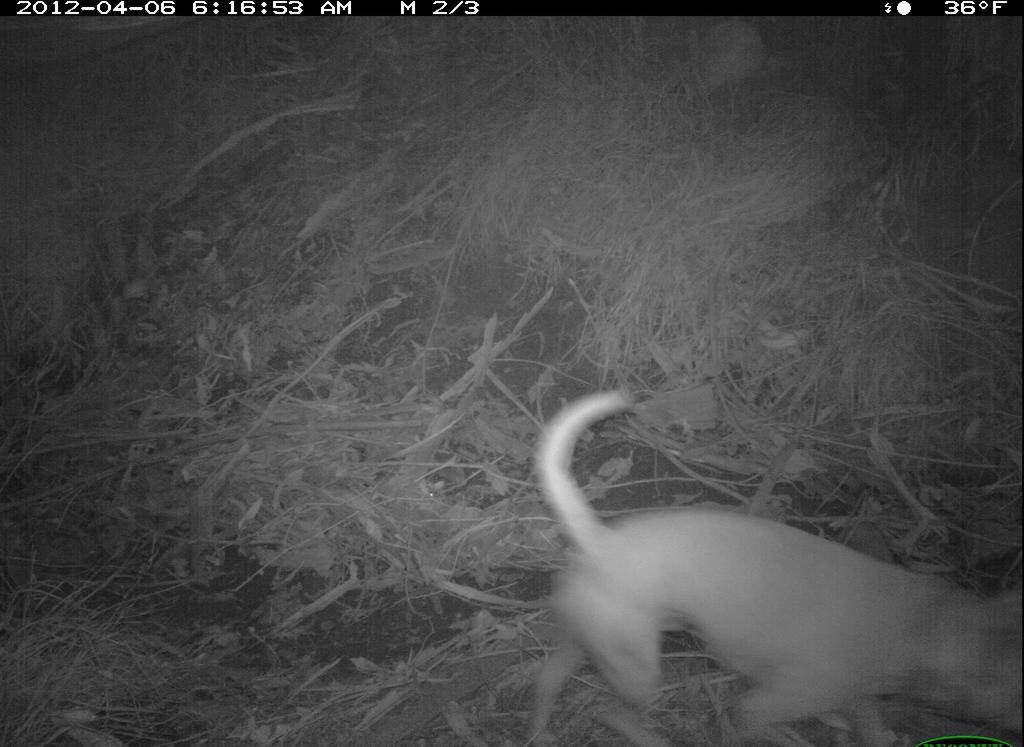dog: (517, 382, 1019, 747)
